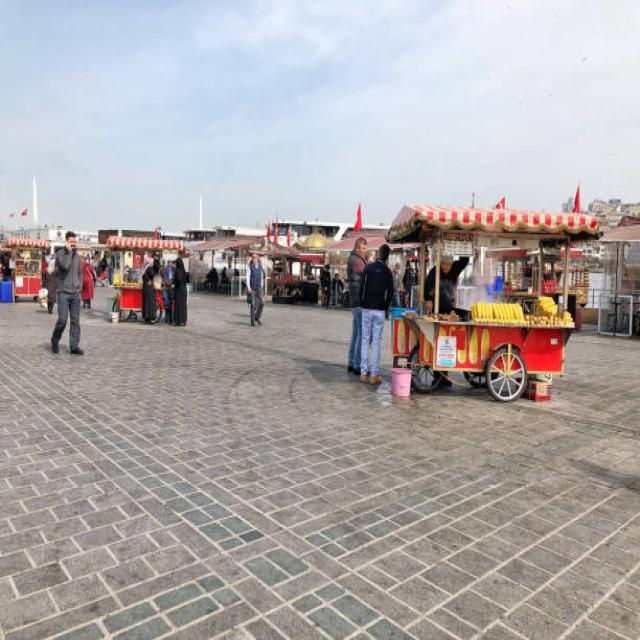Emperan: (351, 183, 606, 438), (100, 234, 202, 332)
